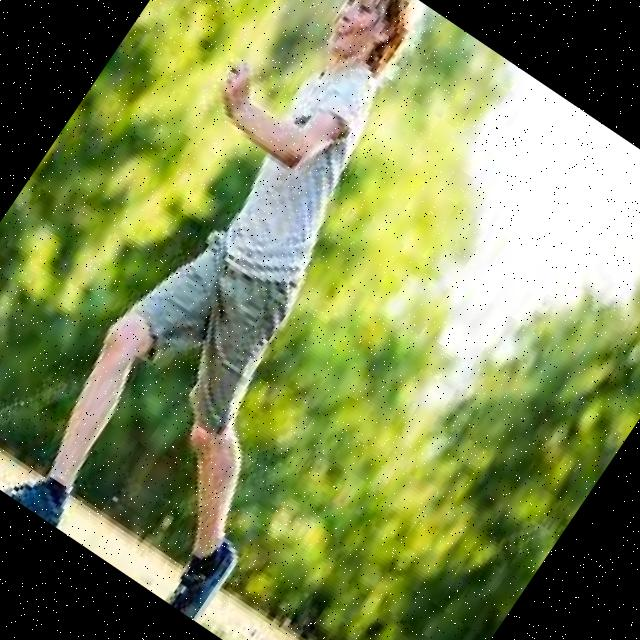Person: (0, 0, 552, 621)
